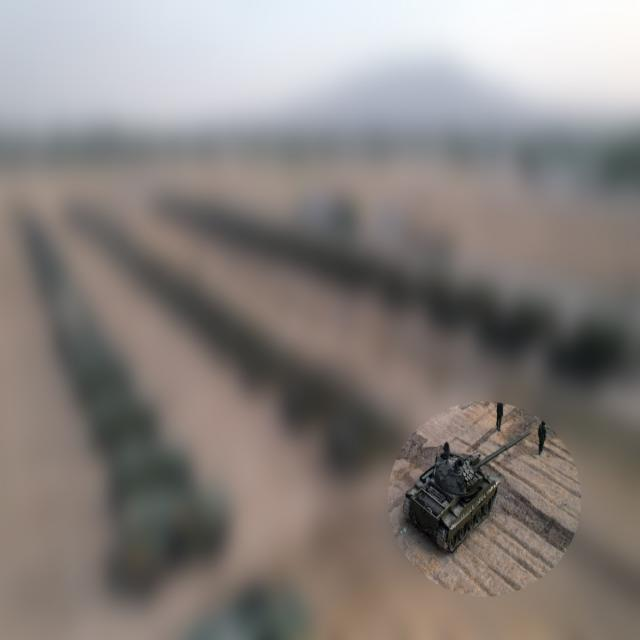tank: (402, 423, 536, 558)
